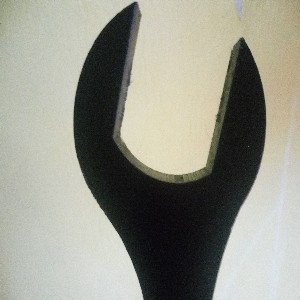spanner: (72, 1, 267, 300)
